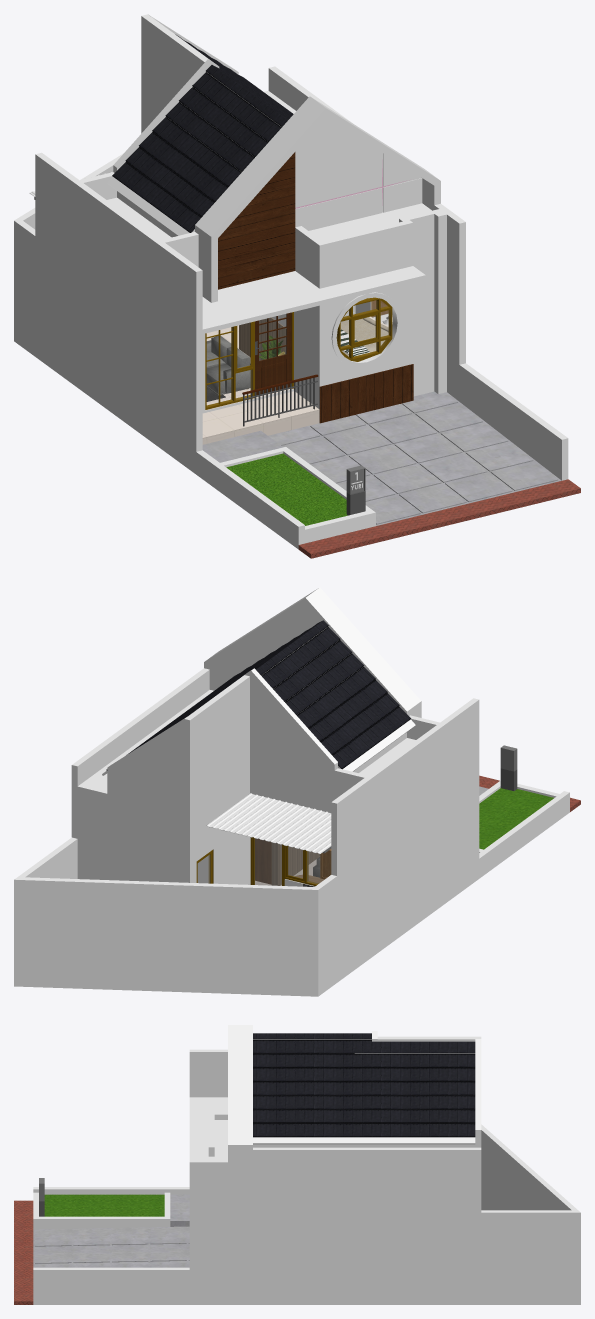
The model's file is yuri-1.glb.
3 renders of one model, top to bottom at view 1: azimuth 30°, elevation 25°; view 2: azimuth 150°, elevation 25°; view 3: azimuth 270°, elevation 25°, orthographic. The views are drawn at different scales.
Visible parts, largest first — view 1: 1392478, 1392482, Component#35, 1392490, 1392476, 1392508, 1392517, 1368738, 2234363, 1608414, 1368152, Component#54 (+2 smaller); view 2: 1392478, Component#35, 1392508, 1391091, 1392832, 1368738, 1860894, 2167750; view 3: 1392478, Component#35, 1392482, 1392508, 1392476.
Part boxes in pixels (bbox=[...]): 1392478: bbox=[14, 14, 568, 549]; 1392482: bbox=[202, 391, 561, 525]; Component#35: bbox=[112, 34, 293, 232]; 1392490: bbox=[218, 152, 413, 423]; 1392476: bbox=[298, 479, 580, 558]; 1392508: bbox=[226, 453, 347, 525]; 1392517: bbox=[202, 325, 319, 444]; 1368738: bbox=[205, 297, 392, 409]; 2234363: bbox=[255, 312, 291, 395]; 1608414: bbox=[206, 335, 250, 395]; 1368152: bbox=[243, 341, 317, 426]; Component#54: bbox=[236, 314, 285, 399]; 1392478: bbox=[14, 587, 569, 996]; Component#35: bbox=[106, 620, 411, 770]; 1392508: bbox=[479, 788, 553, 849]; 1391091: bbox=[254, 838, 281, 885]; 1392832: bbox=[197, 846, 324, 884]; 1368738: bbox=[196, 837, 318, 886]; 1860894: bbox=[271, 842, 319, 885]; 2167750: bbox=[255, 838, 271, 884]; 1392478: bbox=[33, 1025, 580, 1304]; Component#35: bbox=[253, 1033, 475, 1137]; 1392482: bbox=[33, 1194, 189, 1267]; 1392508: bbox=[44, 1194, 164, 1216]; 1392476: bbox=[14, 1200, 33, 1304].
Bounding box in the file's own units: 6.2 × 6.81 × 14.78.
85 materials, 46 textured.
